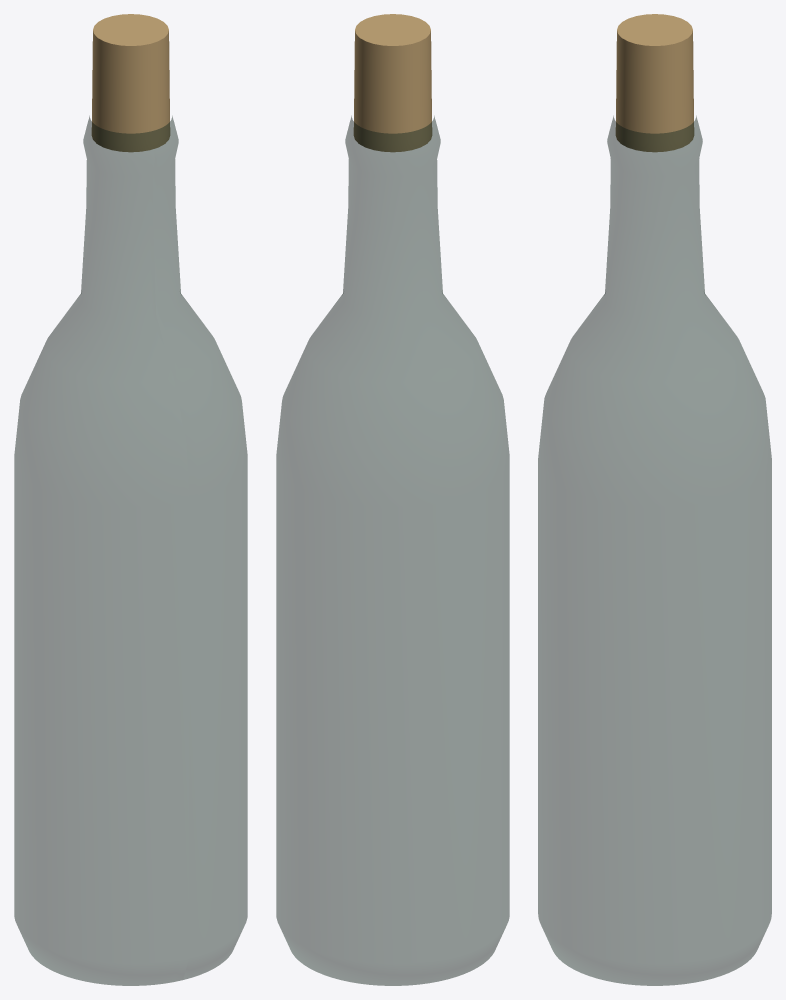
Rendered from bottle.glb.
3 views of the same model, side by side, from view 1: azimuth 30°, elevation 25°; view 2: azimuth 150°, elevation 25°; view 3: azimuth 270°, elevation 25° (orthographic).
Parts seen in each view (by area): view 1: glass, cork; view 2: glass, cork; view 3: glass, cork.
Boxes of the visible parts, <box> form: glass: <box>14,116,247,985</box>; cork: <box>91,14,170,152</box>; glass: <box>276,116,509,985</box>; cork: <box>353,14,432,152</box>; glass: <box>538,116,771,985</box>; cork: <box>615,14,694,152</box>.
Bounding box in the file's own units: 0.0762 × 0.332 × 0.0762.
